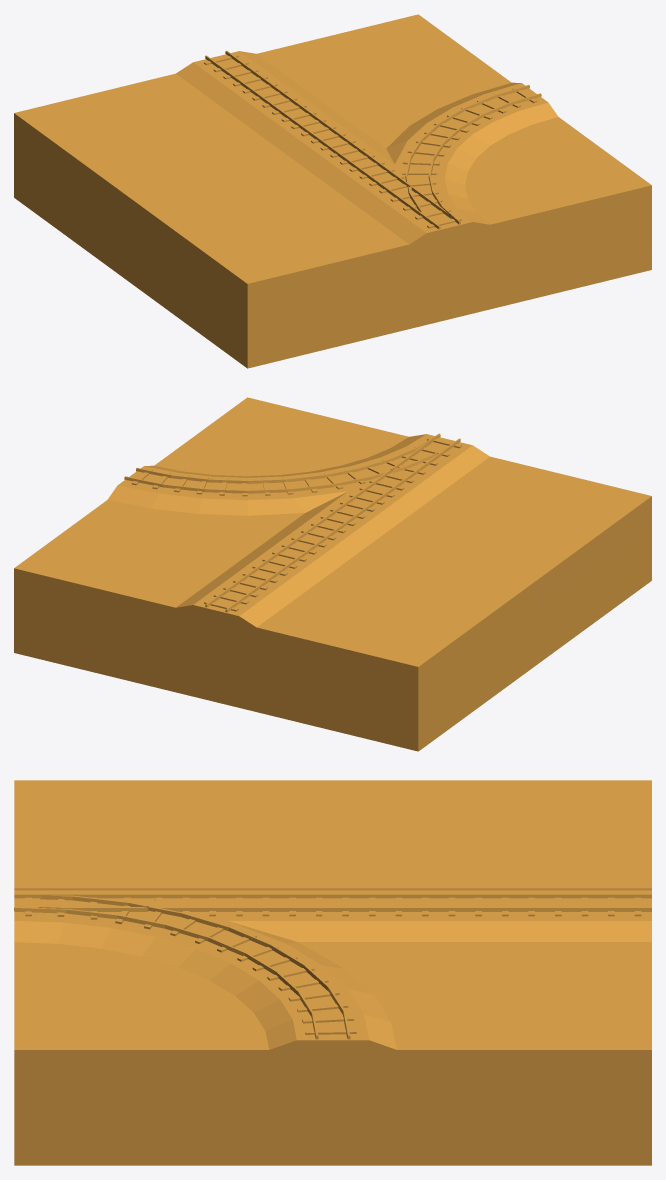
The model's file is tiles-tile-rail-y.glb.
The picture shows the model from 3 angles, top to bottom: view 1: azimuth 30°, elevation 25°; view 2: azimuth 150°, elevation 25°; view 3: azimuth 270°, elevation 25°; orthographic projection. The views are drawn at different scales.
Visible parts, largest first — view 1: tile-rail-y; view 2: tile-rail-y; view 3: tile-rail-y.
Part boxes in pixels (bbox=[...]): tile-rail-y: bbox=[14, 14, 651, 368]; tile-rail-y: bbox=[14, 397, 651, 751]; tile-rail-y: bbox=[14, 780, 651, 1165].
Bounding box in the file's own units: 30 × 6.75 × 30.01.
